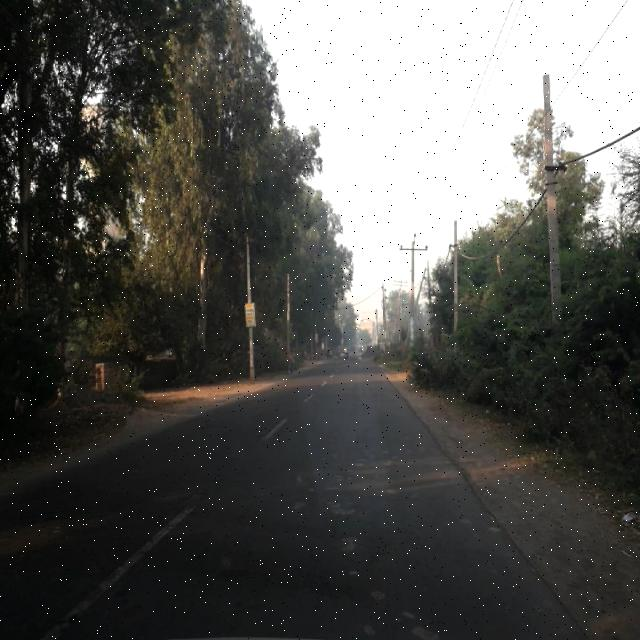D44: (46, 493, 208, 639)
